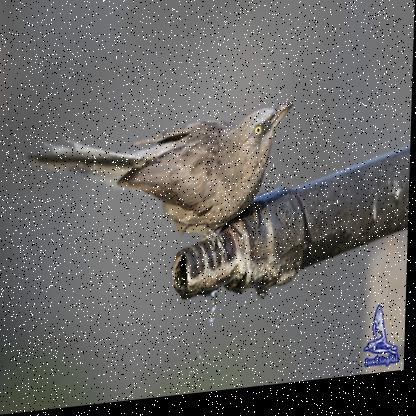Burung: (24, 107, 294, 284)
